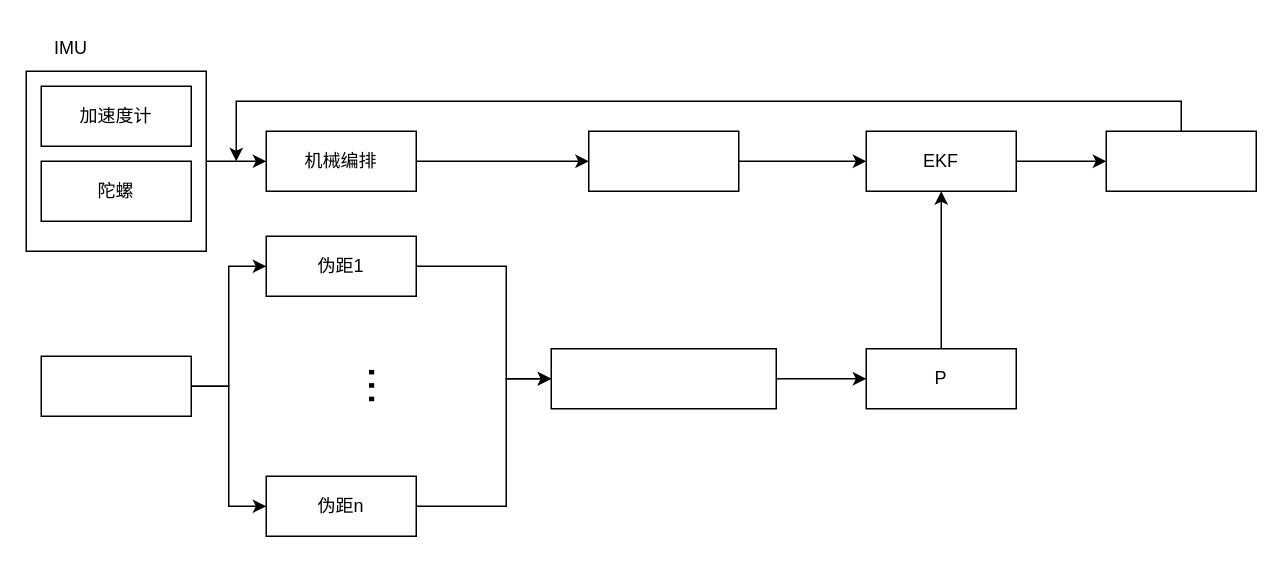
This 1283x563 diagram has some shape labels left out. The shapes that lost their labels are listed below. From the top down, each one's box as (x1, y1, x2, y2) in pixels, then its label:
(587, 130, 739, 191): PVA1
(1105, 130, 1256, 191): 加速度计零偏 陀螺零偏
(40, 355, 191, 416): UWB
(550, 347, 776, 409): 最小二乘定位
